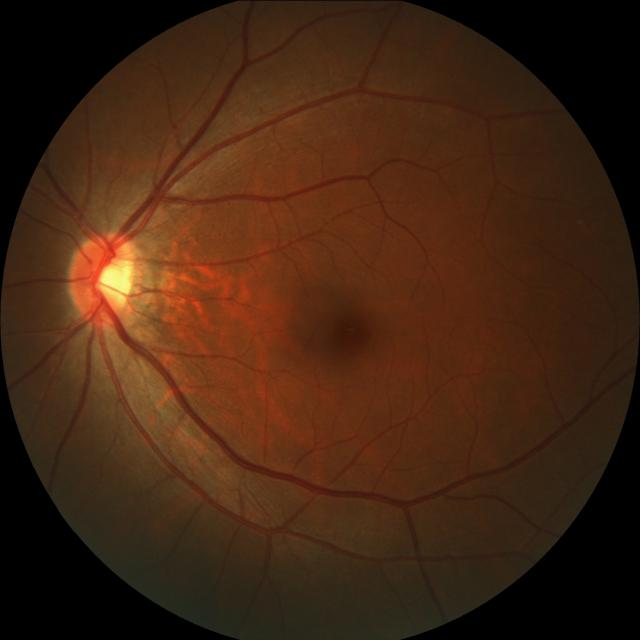OC: (94, 258, 134, 302)
OD: (68, 230, 141, 324)
